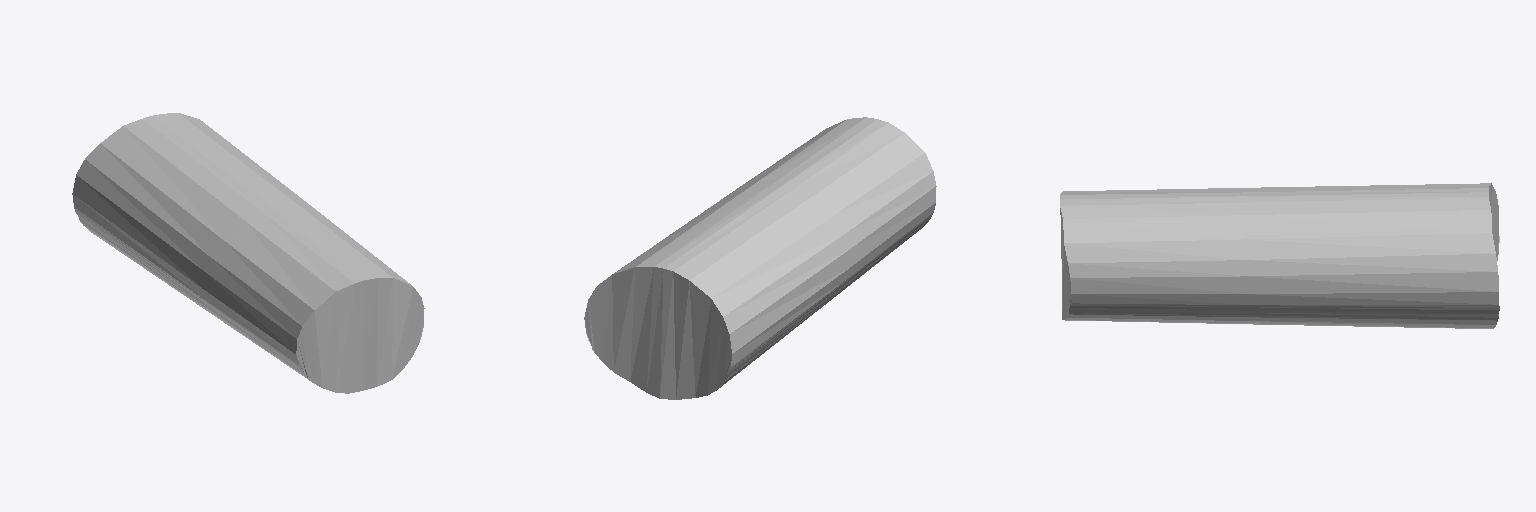
File: Body_Snake_VTest.obj
The picture shows the model from 3 angles: view 1: azimuth 30°, elevation 25°; view 2: azimuth 150°, elevation 25°; view 3: azimuth 270°, elevation 25°; orthographic projection.
Parts seen in each view (by area): view 1: Bodypart; view 2: Bodypart; view 3: Bodypart.
Boxes of the visible parts, x1=… form: Bodypart: x1=72, y1=113, x2=424, y2=393; Bodypart: x1=584, y1=117, x2=936, y2=399; Bodypart: x1=1060, y1=183, x2=1499, y2=328.
Bounding box in the file's own units: 4.86 × 4 × 12.5.